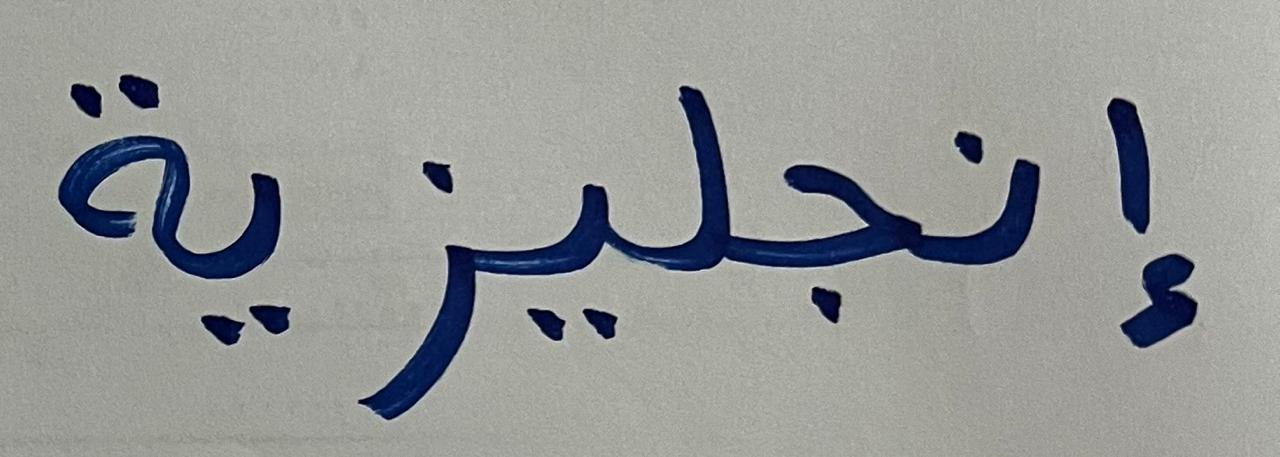hamza: (1077, 39, 1236, 391)
jeem: (764, 106, 920, 364)
lam: (632, 48, 751, 348)
noon: (927, 91, 1068, 325)
teh_marbota: (28, 28, 198, 330)
yeh: (487, 112, 628, 375), (202, 126, 310, 378)
zain: (330, 135, 482, 426)
